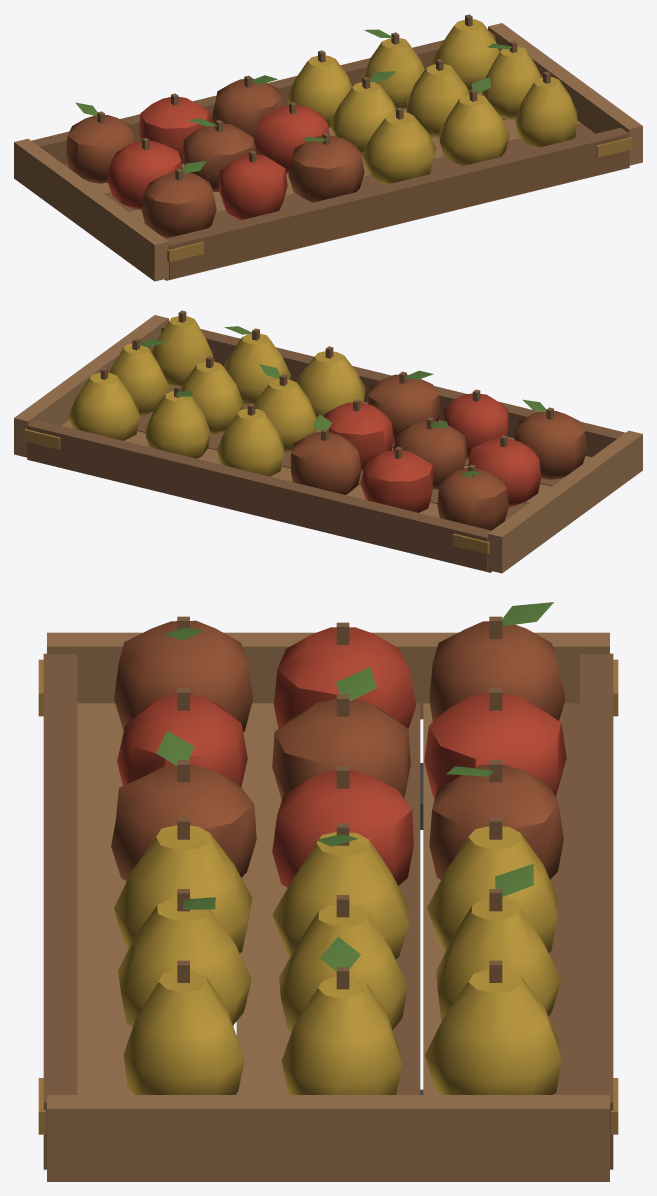
Rendered from w0b-plaza-stock-orchard.glb.
3 views of the same model, one above another, from view 1: azimuth 30°, elevation 25°; view 2: azimuth 150°, elevation 25°; view 3: azimuth 270°, elevation 25° (orthographic). The views are drawn at different scales.
Parts seen in each view (by area): view 1: Plaza stall tray | orchard; view 2: Plaza stall tray | orchard; view 3: Plaza stall tray | orchard.
Part boxes in pixels (x1,y1,x2,y2): Plaza stall tray | orchard: (14, 14, 642, 281); Plaza stall tray | orchard: (14, 310, 642, 573); Plaza stall tray | orchard: (38, 602, 618, 1181).
Size of the model in its own units: 1.4 by 0.265 by 0.7203.
